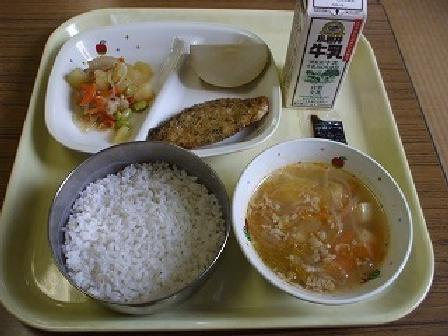Apple: (175, 31, 273, 89)
Milk: (274, 0, 369, 112)
Rice: (57, 153, 223, 307)
cutlet: (150, 89, 275, 155)
vegetable based cooked food: (61, 53, 150, 130)
vegetable soup: (239, 144, 413, 297)
